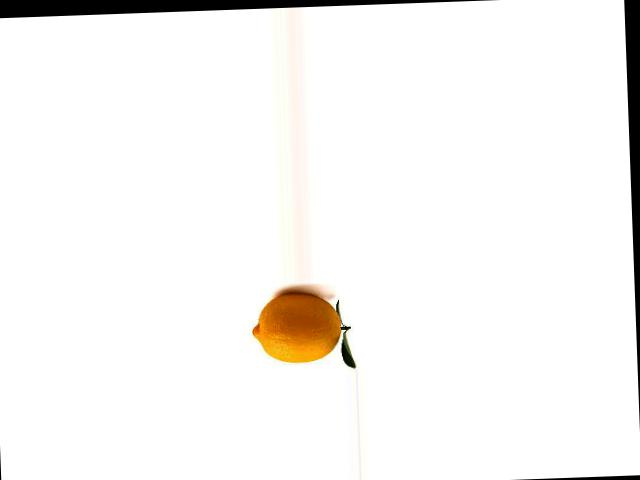lemon: (245, 288, 345, 365)
